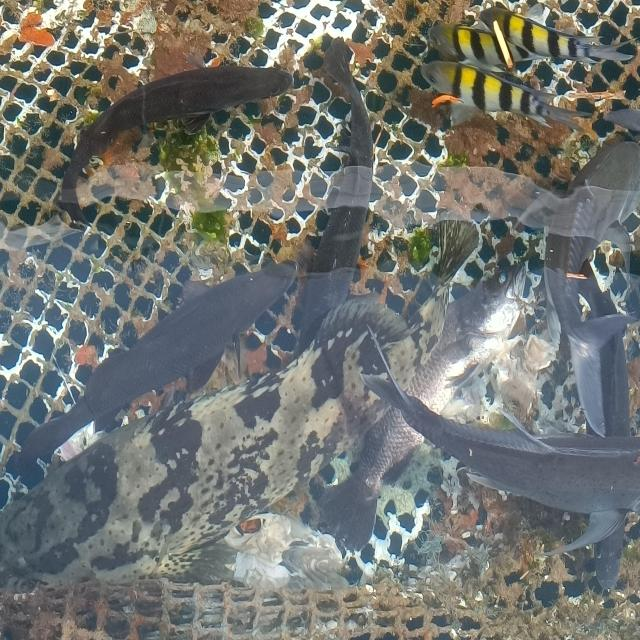ikan: (380, 328, 640, 573), (7, 259, 308, 463), (54, 52, 294, 234), (427, 60, 597, 131), (470, 5, 640, 66)
